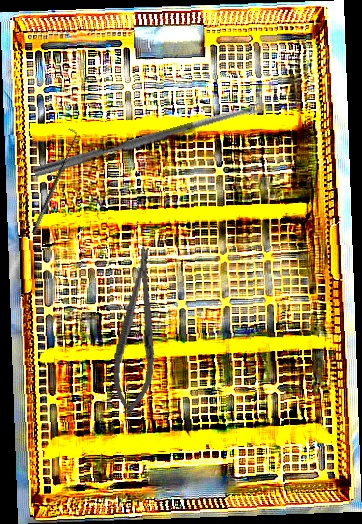Hook Surgical: (23, 126, 83, 236)
Needle Holder: (108, 245, 167, 416)
Surgical Spoon: (33, 102, 263, 179)
